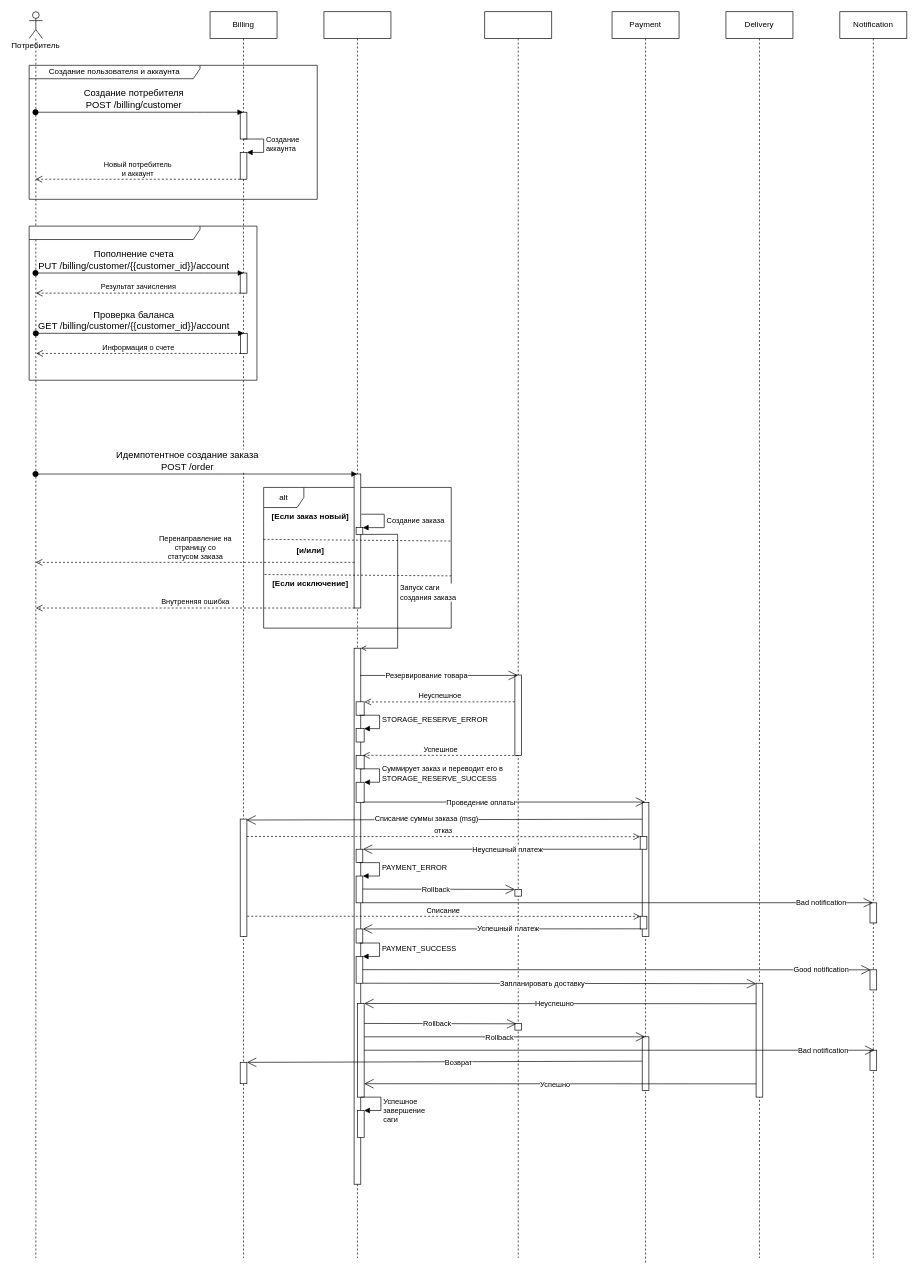
Image size: 919x1276. Some labels were removed from this diagram. The box of each missing label's shape, as (x1, y1, x2, y2) in pixels:
Order: (323, 11, 391, 1258)
Storage: (484, 11, 552, 1258)
Пополнение и проверка счета: (28, 225, 257, 380)
